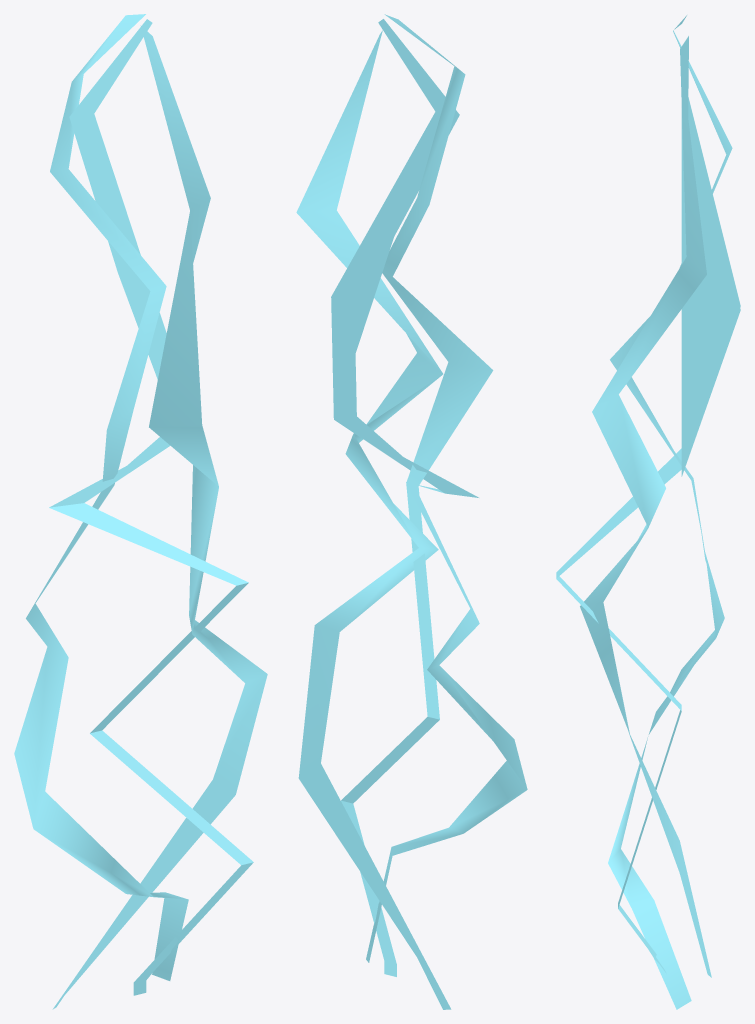
File: electricidad_pasillo-004.gltf
3 renders of one model, left to right at view 1: azimuth 30°, elevation 25°; view 2: azimuth 150°, elevation 25°; view 3: azimuth 270°, elevation 25°, orthographic. The views are drawn at different scales.
Visible parts, largest first — view 1: Electr-Pasillo-f.004; view 2: Electr-Pasillo-f.004; view 3: Electr-Pasillo-f.004.
Boxes of the visible parts, x1,y1,x2,y2 form: Electr-Pasillo-f.004: [14, 14, 267, 1009]; Electr-Pasillo-f.004: [296, 14, 527, 1009]; Electr-Pasillo-f.004: [556, 15, 740, 1009].
Bounding box in the file's own units: 1.2 × 4.95 × 0.8353.
Materials: 1 (1 with a texture image).
